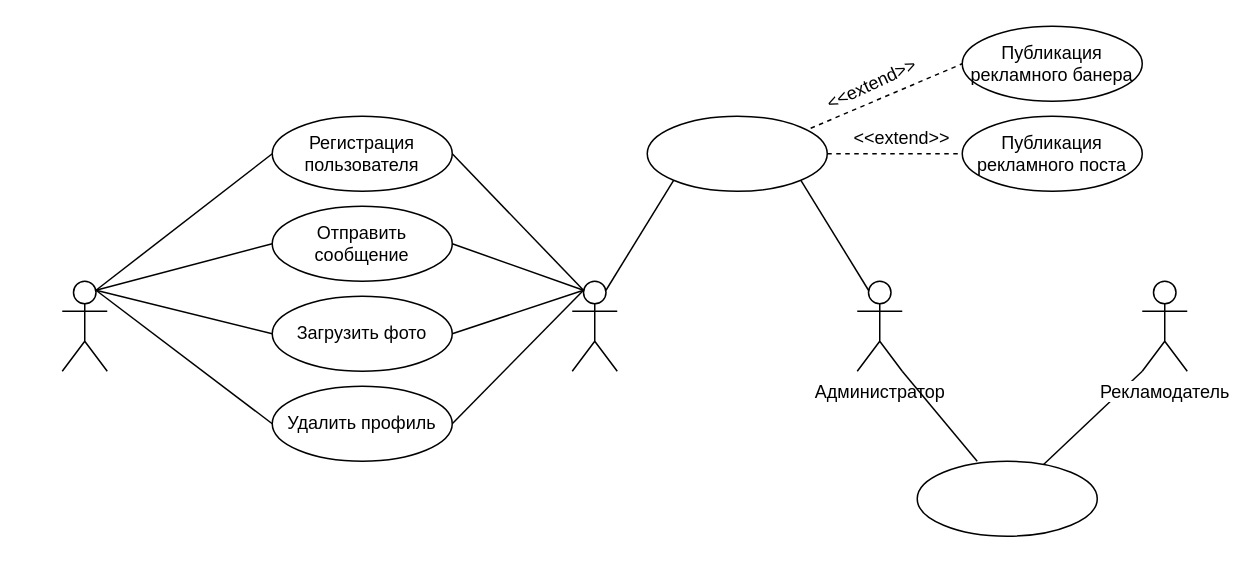
The diagram is 1256 pixels wide and 563 high, and some of its shapes have lost their labels. The shapes that lost their labels are listed below. From the top down, each one's centre as x and y in pixels, then its label:
At (736,153): "Публикация рекламы".
At (84,325): "Пользователь".
At (594,325): "Соц. сеть".
At (1006,498): "Заказ рекламы".
